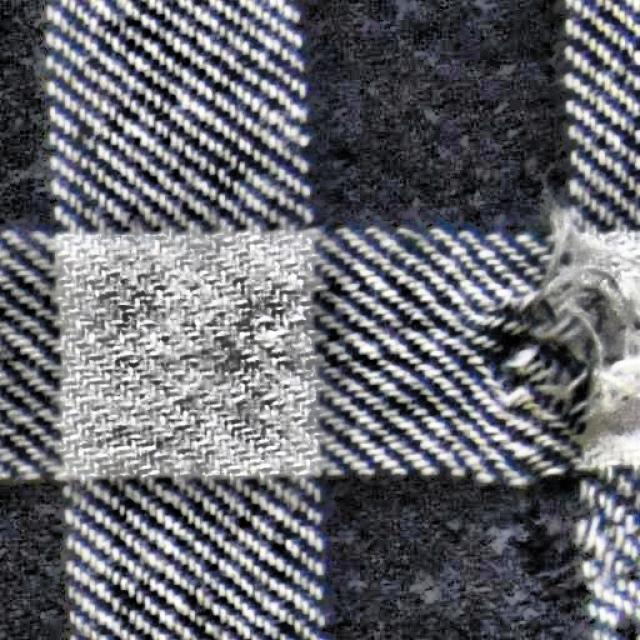cut: (474, 207, 639, 458)
